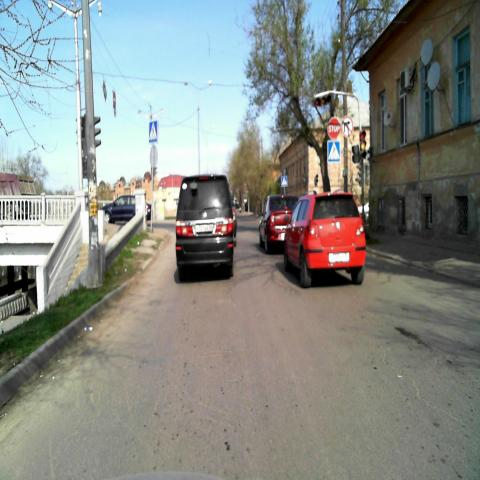3_18: (342, 115, 352, 137)
